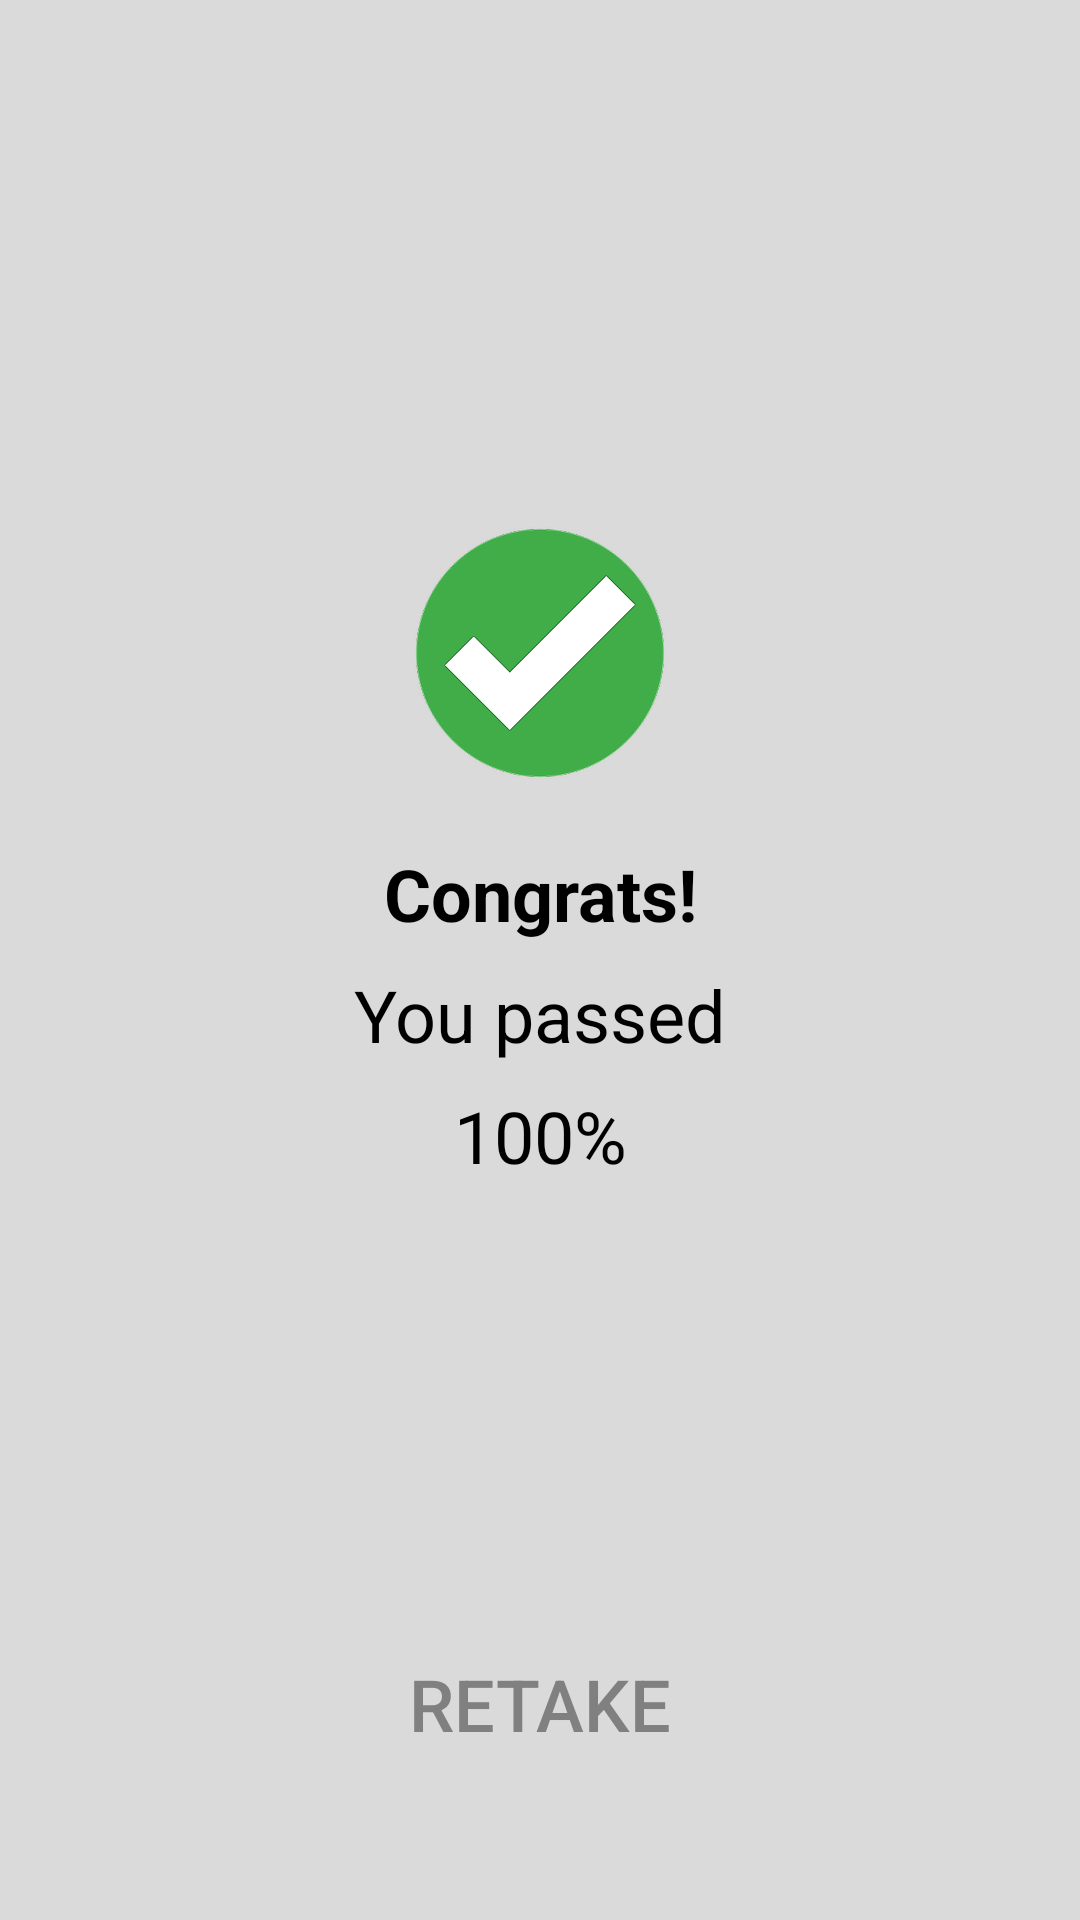

Named icons in this screenshot (1080 × 1920) and their bounding boxes, (x1, y1, x2, y2):
greentick: (416, 529, 664, 777)
